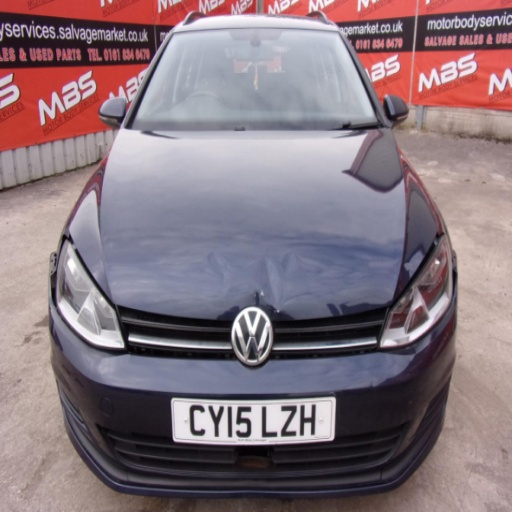dent: (216, 289, 297, 323), (258, 253, 286, 310), (281, 251, 323, 282), (206, 248, 235, 284), (226, 279, 260, 301), (279, 291, 312, 310)
rust: (236, 458, 270, 469)
